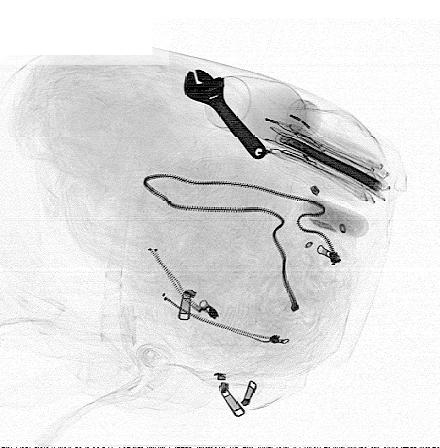Wrench: (183, 67, 269, 162)
